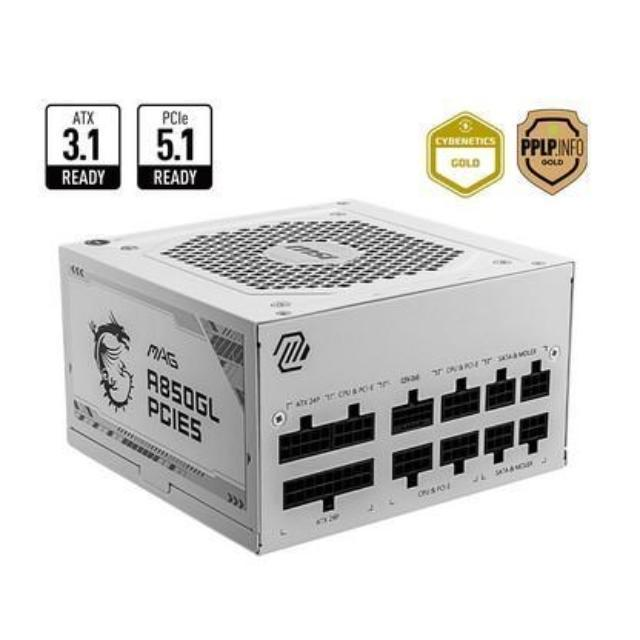PSU: (51, 197, 584, 552)
